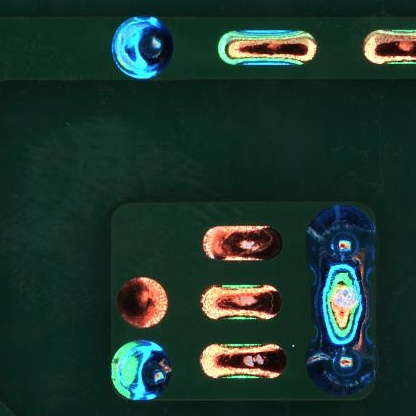spot: (304, 204, 379, 277), (303, 335, 380, 396), (107, 336, 173, 399), (112, 17, 174, 78)
